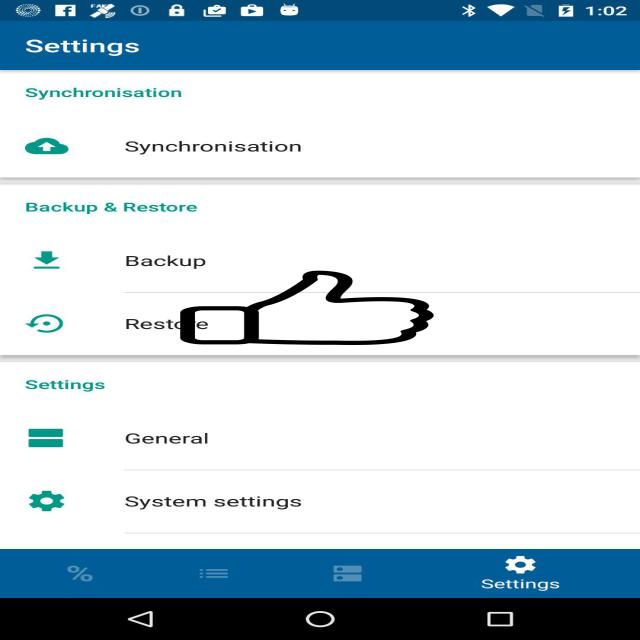privacy zuckering: (177, 271, 437, 345)
